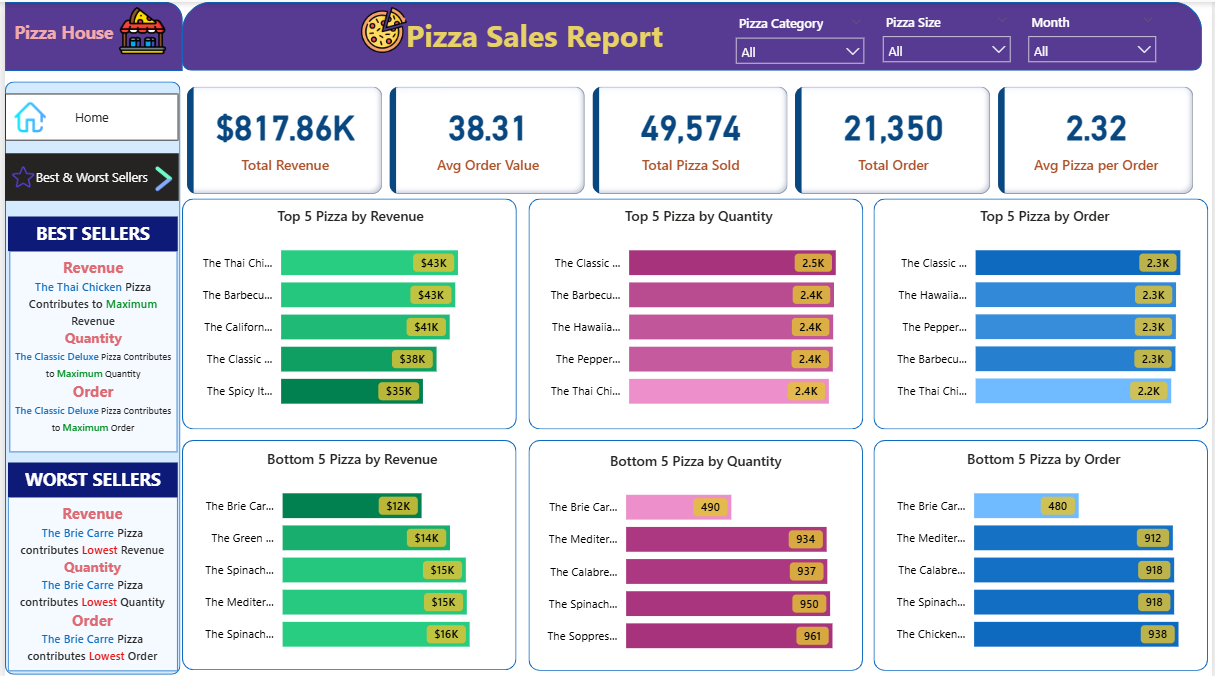

What the dashboard file says about the page in this screenshot:
{"tool":"powerbi","page":{"name":"Best & Worst Sellers","canvas":[1280,720],"ordinal":1},"visuals":[{"type":"cardVisual","fields":{"Data":["_Measure_Table.Total_Revenue","_Measure_Table.Avg Order Value","_Measure_Table.Total_Pizza_Sold","_Measure_Table.Total_Order","_Measure_Table.Avg Pizza per Order"]},"box":[187.8,84.2,1081.6,124.7],"z":0},{"type":"shape","box":[187.8,0,1081.6,72.9],"z":1000},{"type":"textbox","box":[419.9,8,313.4,60.4],"z":2000},{"type":"shape","box":[0,0,188.3,73.3],"z":3000},{"type":"shape","box":[187.7,208.4,355,245],"z":4000},{"type":"shape","box":[0,84.3,186,629],"z":5000},{"type":"textbox","box":[3.2,227.5,179.7,36.6],"z":6000},{"type":"textbox","box":[4.8,264,178.1,213.1],"z":7000},{"type":"textbox","box":[3.2,488.3,179.7,36.6],"z":8000},{"type":"textbox","box":[3.2,524.9,179.7,184.5],"z":9000},{"type":"slicer","fields":{"Values":["pizza_sales.pizza_size"]},"box":[921,6.4,155,60.4],"z":10000},{"type":"slicer","fields":{"Values":["pizza_sales.pizza_category"]},"box":[765.1,8,155.9,60.4],"z":11000},{"type":"slicer","fields":{"Values":["Calendar_Table.Month Name"]},"box":[1075.3,6.4,155,60.4],"z":12000},{"type":"image","box":[338.8,0,125.7,58.9],"z":13000},{"type":"textbox","box":[5,15,126.7,45],"z":14000},{"type":"shape","box":[187.7,464.5,354.7,244],"z":15000},{"type":"shape","box":[555.1,208.4,355,245],"z":16000},{"type":"shape","box":[921,208.4,355,245],"z":17000},{"type":"shape","box":[555.1,464.5,354.7,245],"z":18000},{"type":"shape","box":[921,464.5,354.7,245],"z":19000},{"type":"barChart","title":"Top 5 Pizza by Revenue","fields":{"Category":["pizza_sales.pizza_name"],"Y":["_Measure_Table.Total_Revenue"]},"box":[192.4,216.7,348,228.9],"z":20000},{"type":"barChart","title":"Bottom 5 Pizza by Revenue","fields":{"Category":["pizza_sales.pizza_name"],"Y":["_Measure_Table.Total_Revenue"]},"box":[194.4,473.9,348.4,228.9],"z":21000},{"type":"barChart","title":"Top 5 Pizza by Quantity","fields":{"Category":["pizza_sales.pizza_name"],"Y":["Sum(pizza_sales.quantity)"]},"box":[561,216.7,348.4,228.9],"z":22000},{"type":"barChart","title":"Bottom 5 Pizza by Quantity","fields":{"Category":["pizza_sales.pizza_name"],"Y":["Sum(pizza_sales.quantity)"]},"box":[559,475.9,348.4,228.9],"z":23000},{"type":"barChart","title":"Top 5 Pizza by Order","fields":{"Category":["pizza_sales.pizza_name"],"Y":["_Measure_Table.Total_Order"]},"box":[929.2,216.4,347.5,228.3],"z":24000},{"type":"barChart","title":"Bottom 5 Pizza by Order","fields":{"Category":["pizza_sales.pizza_name"],"Y":["_Measure_Table.Total_Order"]},"box":[927.6,473.9,348.4,228.9],"z":25000},{"type":"pageNavigator","box":[0,96.7,184,50],"z":26000},{"type":"pageNavigator","box":[0,160,184,50],"z":27000},{"type":"image","box":[131.7,165,70,43.3],"z":28000},{"type":"image","box":[100,0,91.7,60],"z":29000},{"type":"image","box":[5,100,43.3,43.3],"z":30000},{"type":"image","box":[0,165,38.3,40],"z":31000}]}

Visuals, with their boxes in screenshot pixels (x1, y1, x2, y2), scaled from the page's 1280x720 canvas onto the 1215x676 screenshot:
cardVisual - _Measure_Table.Total_Revenue x _Measure_Table.Avg Order Value: <region>178, 79, 1205, 196</region>
shape: <region>178, 0, 1205, 68</region>
textbox: <region>399, 8, 696, 64</region>
shape: <region>0, 0, 179, 69</region>
shape: <region>178, 196, 515, 426</region>
shape: <region>0, 79, 177, 670</region>
textbox: <region>3, 214, 174, 248</region>
textbox: <region>5, 248, 174, 448</region>
textbox: <region>3, 458, 174, 493</region>
textbox: <region>3, 493, 174, 666</region>
slicer - pizza_sales.pizza_size: <region>874, 6, 1021, 63</region>
slicer - pizza_sales.pizza_category: <region>726, 8, 874, 64</region>
slicer - Calendar_Table.Month Name: <region>1021, 6, 1168, 63</region>
image: <region>322, 0, 441, 55</region>
textbox: <region>5, 14, 125, 56</region>
shape: <region>178, 436, 515, 665</region>
shape: <region>527, 196, 864, 426</region>
shape: <region>874, 196, 1211, 426</region>
shape: <region>527, 436, 864, 666</region>
shape: <region>874, 436, 1211, 666</region>
"Top 5 Pizza by Revenue" barChart: <region>183, 203, 513, 418</region>
"Bottom 5 Pizza by Revenue" barChart: <region>185, 445, 515, 660</region>
"Top 5 Pizza by Quantity" barChart: <region>533, 203, 863, 418</region>
"Bottom 5 Pizza by Quantity" barChart: <region>531, 447, 861, 662</region>
"Top 5 Pizza by Order" barChart: <region>882, 203, 1212, 418</region>
"Bottom 5 Pizza by Order" barChart: <region>880, 445, 1211, 660</region>
pageNavigator: <region>0, 91, 175, 138</region>
pageNavigator: <region>0, 150, 175, 197</region>
image: <region>125, 155, 191, 196</region>
image: <region>95, 0, 182, 56</region>
image: <region>5, 94, 46, 135</region>
image: <region>0, 155, 36, 192</region>
